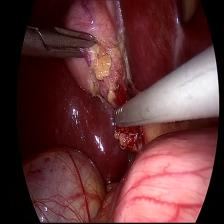Grasper: (27, 24, 98, 73)
Irrigator: (112, 97, 141, 134)
